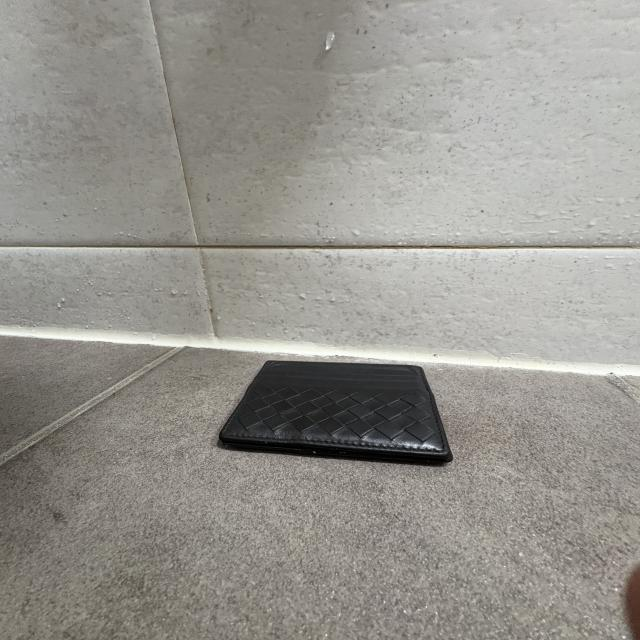wallet: (216, 359, 453, 468)
